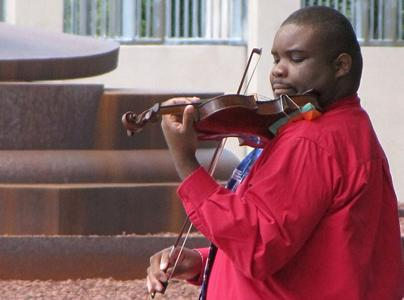person: (148, 8, 404, 300)
